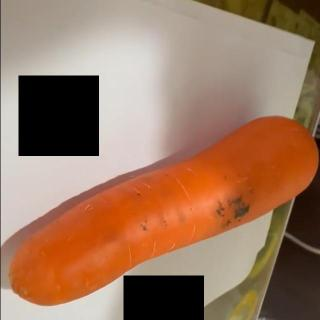carrot: (8, 115, 320, 307)
